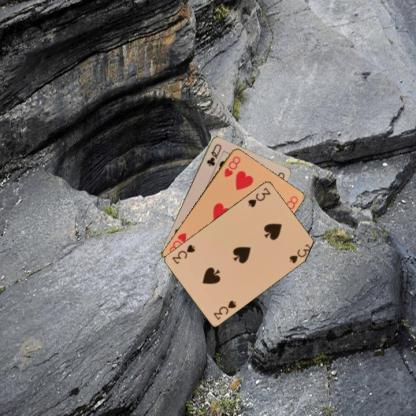3s: (210, 297, 238, 321), (245, 184, 272, 208)
8h: (221, 153, 242, 178)
Qc: (204, 141, 222, 167)
